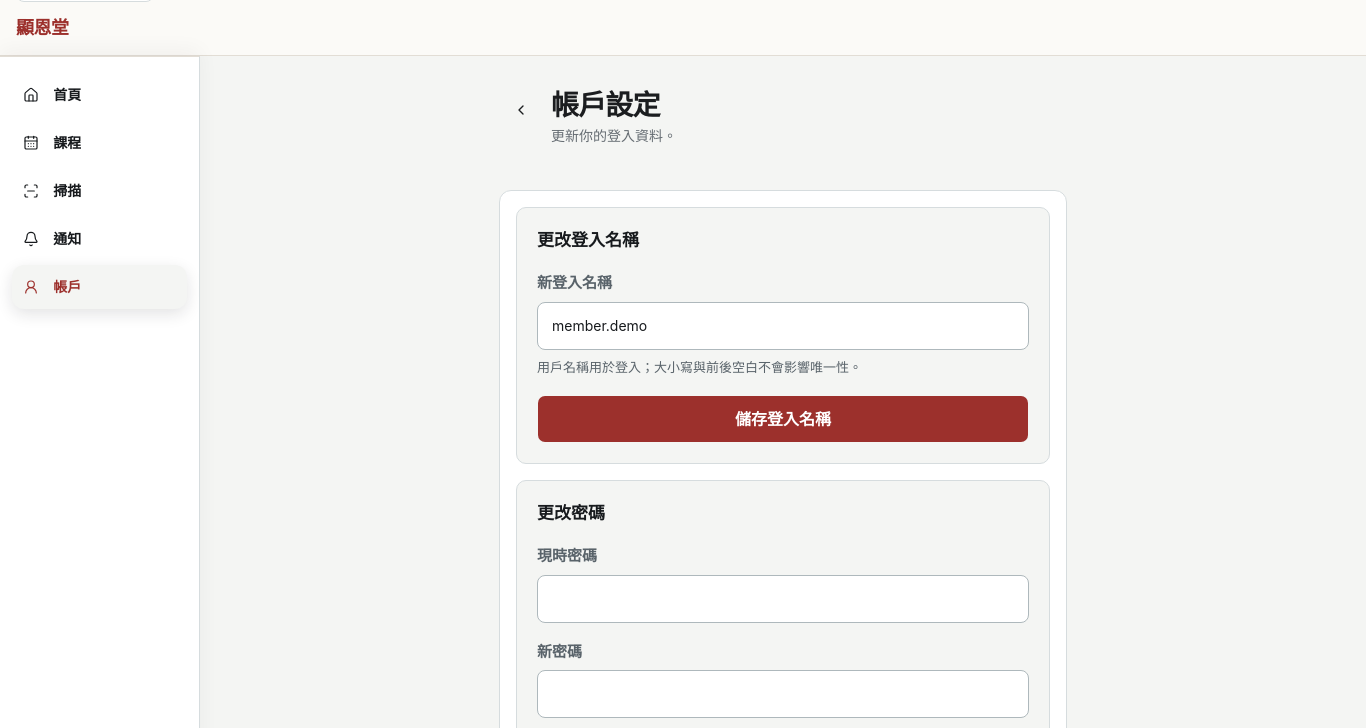
SettingsPage › username change validates, preserves the draft on conflict, and completes with one flash
Expected: the heading "帳戶設定" is shown, [551,88,660,122]
Step 1. Clear the field labelled "新登入名稱" → coordinates (783, 326), box [537,302,1029,350]
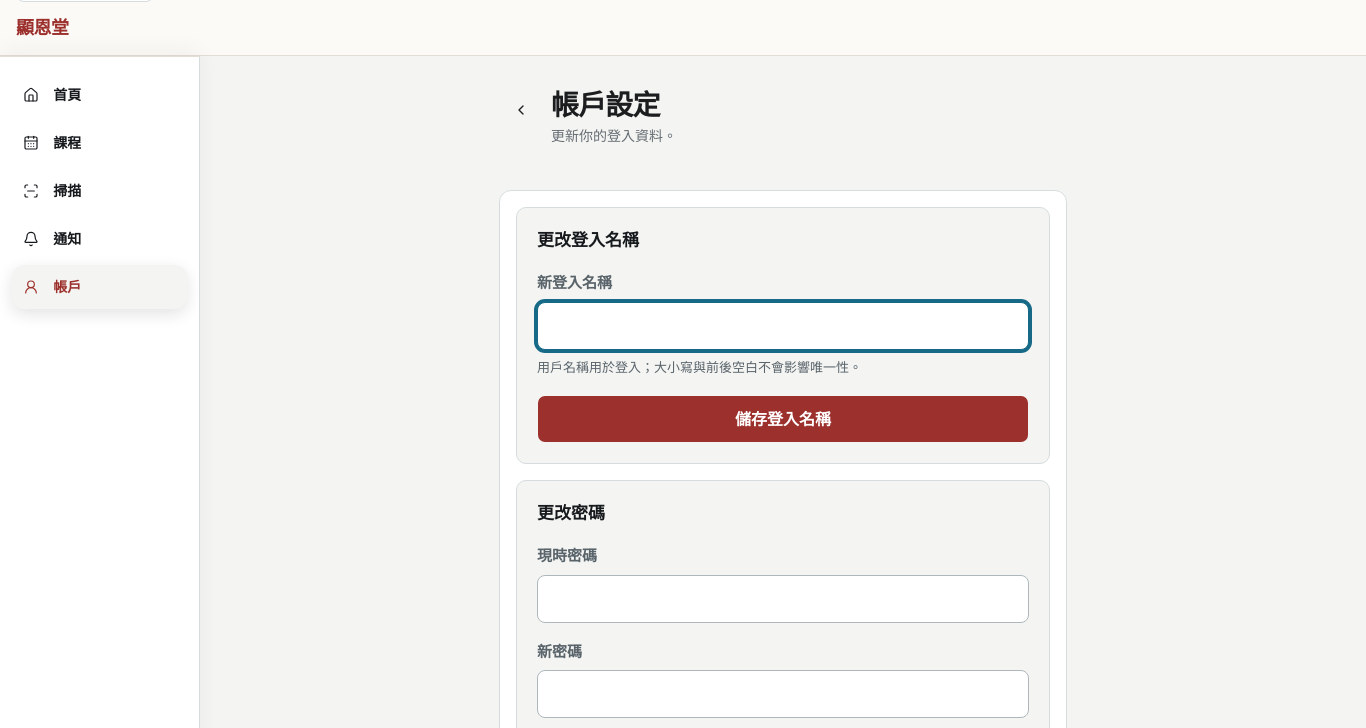
Step 2. Click the button "儲存登入名稱" → coordinates (783, 419), box [537,395,1029,443]
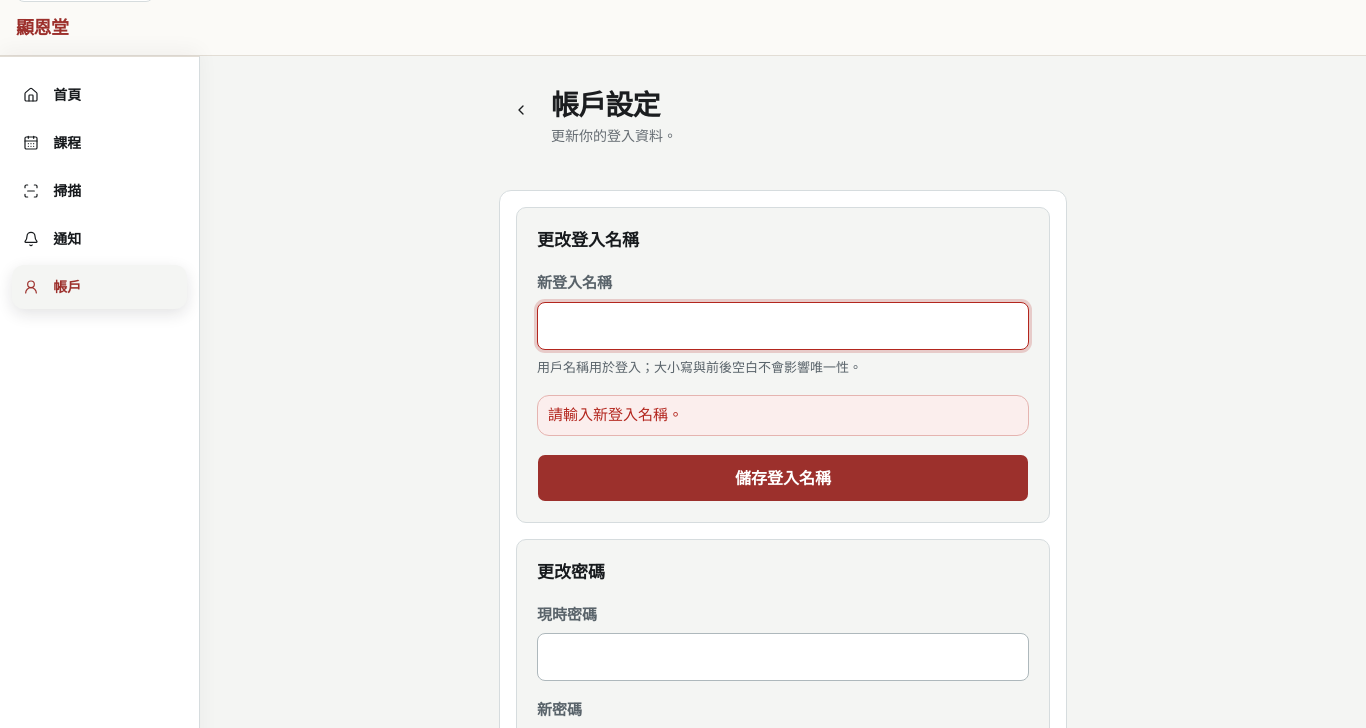
Result: the text "請輸入新登入名稱。" is shown at [548,404,683,427]
Step 3. Type "taken.user" into the field labelled "新登入名稱" → coordinates (783, 326), box [537,302,1029,350]
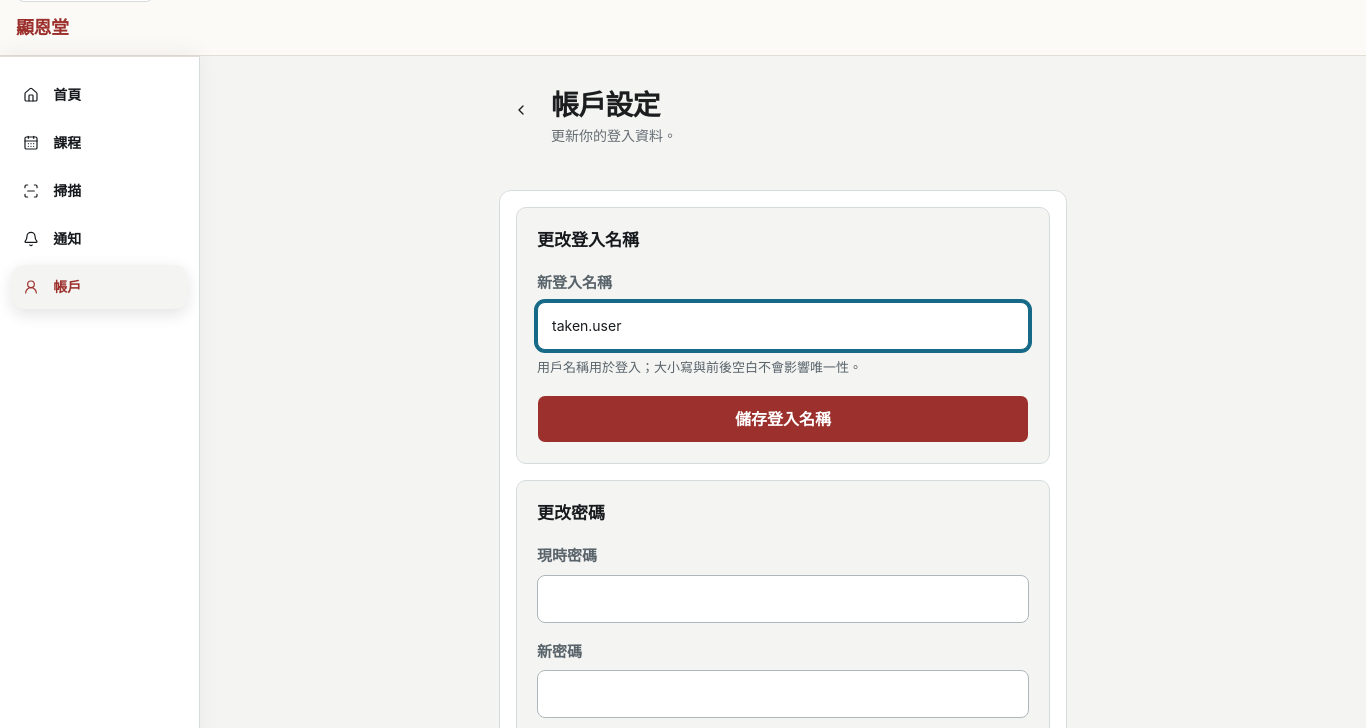
Step 4. Click the button "儲存登入名稱" → coordinates (783, 419), box [537,395,1029,443]
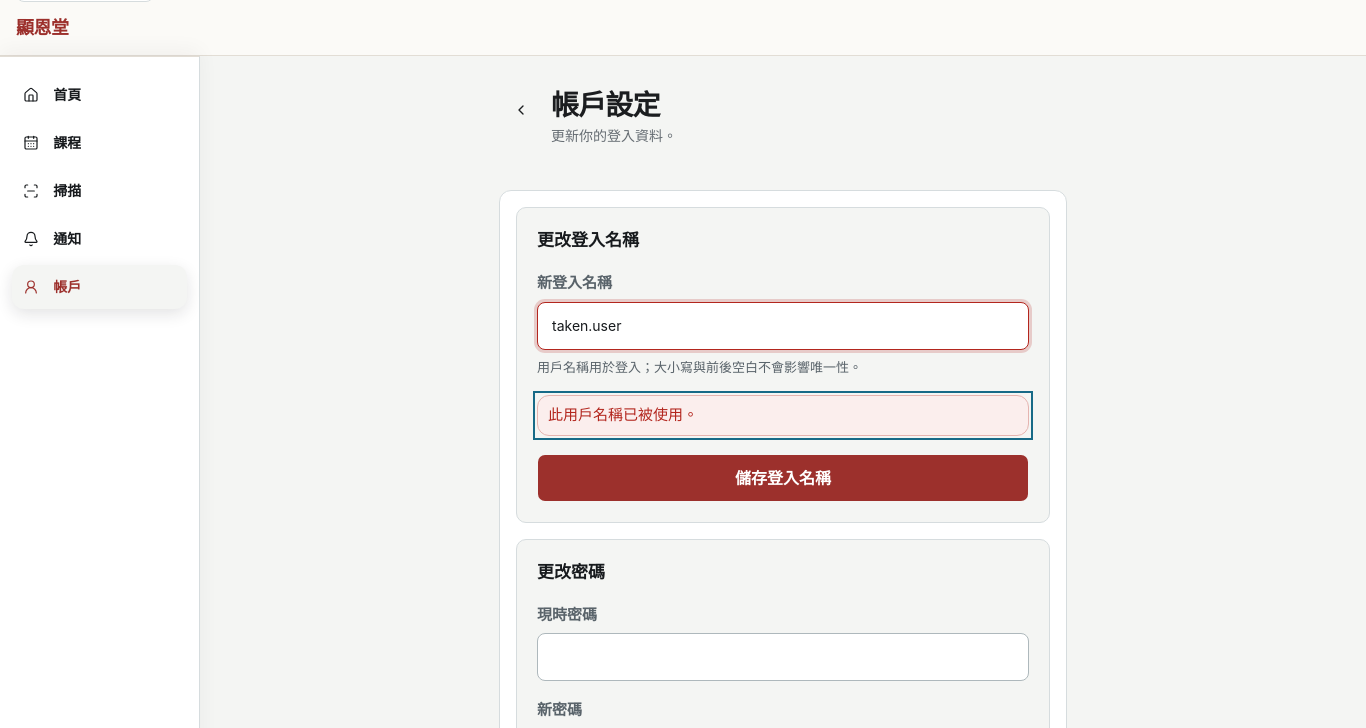
Step 5. Replace the text in the field labelled "新登入名稱" with "member.new" → coordinates (783, 326), box [537,302,1029,350]
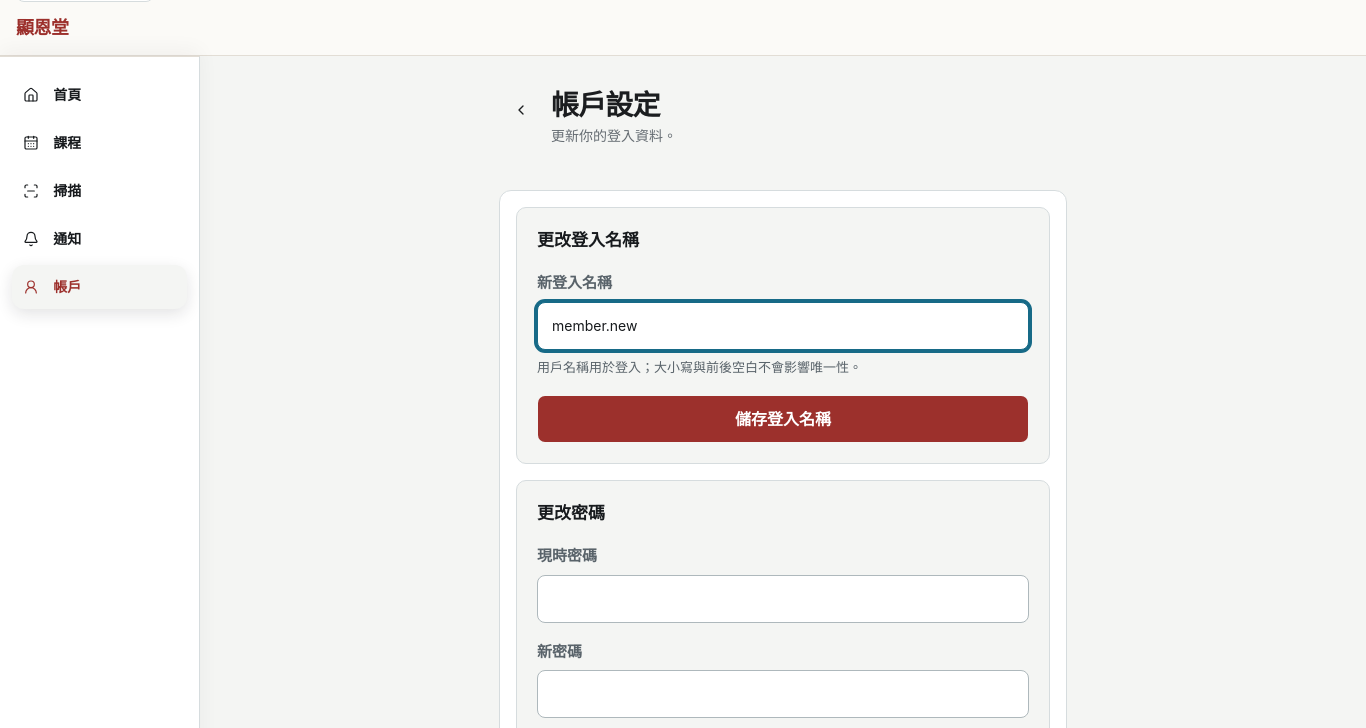
Step 6. Click the button "儲存登入名稱" → coordinates (783, 419), box [537,395,1029,443]
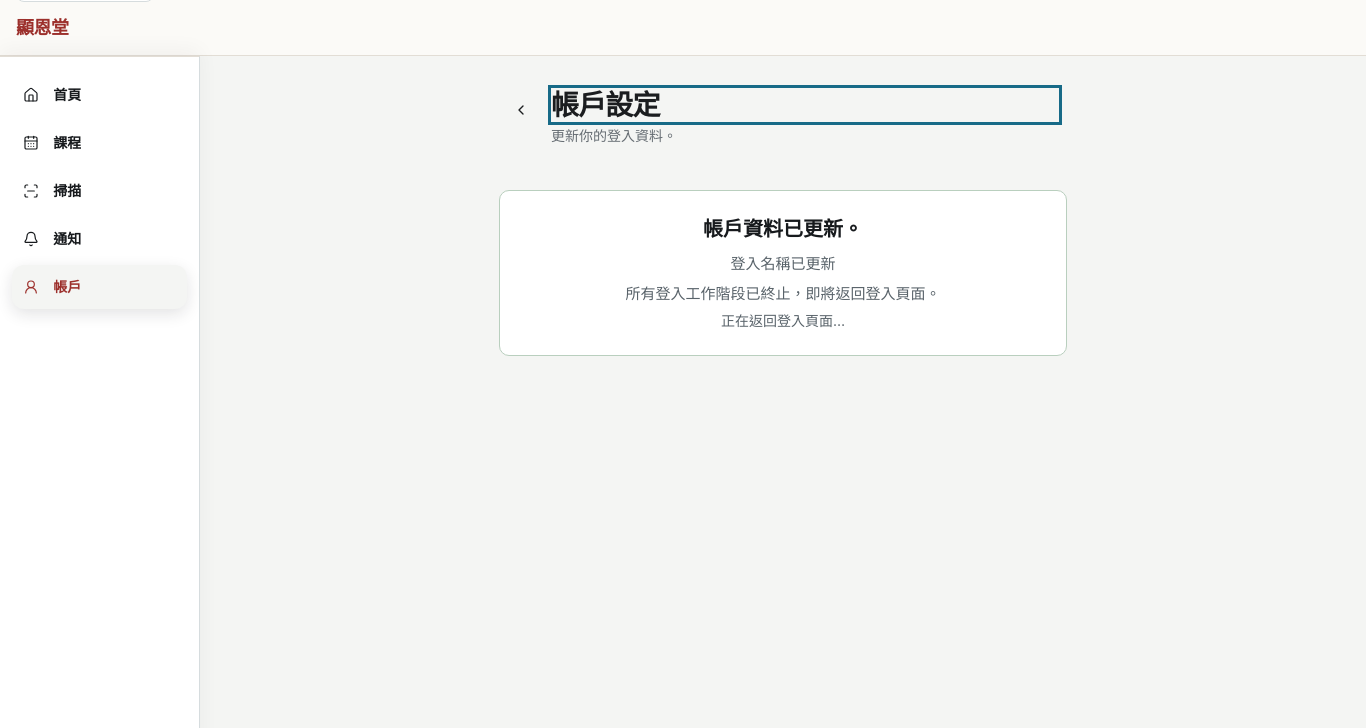
Expected: the message "此用戶名稱已被使用。" is not shown
Result: the text "登入名稱已更新" is shown at [730,254,836,273]
